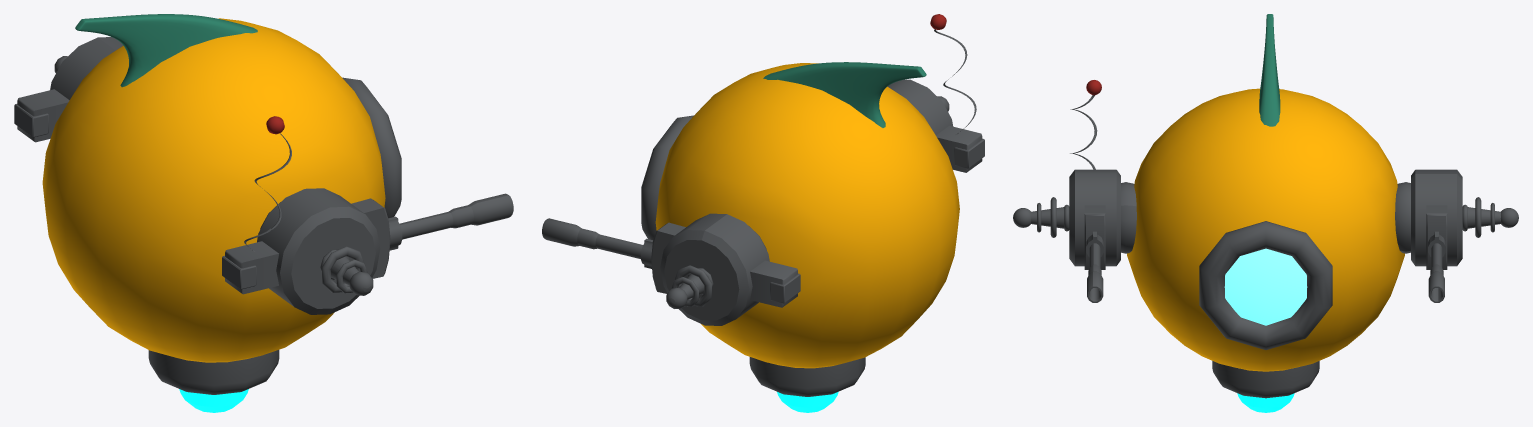
File: Nano_Bot.fbx
3 renders of one model, left to right at view 1: azimuth 30°, elevation 25°; view 2: azimuth 150°, elevation 25°; view 3: azimuth 270°, elevation 25°, orthographic. The views are drawn at different scales.
Visible parts, largest first — view 1: Corpo, Armi; view 2: Corpo, Armi; view 3: Corpo, Armi.
Boxes of the visible parts, <box> form: Corpo: <box>42,14,401,412</box>; Armi: <box>14,37,513,314</box>; Corpo: <box>641,62,959,412</box>; Armi: <box>542,14,984,325</box>; Corpo: <box>1127,14,1404,412</box>; Armi: <box>1013,80,1518,302</box>.
Size of the model in its own units: 228 by 267 by 357.
